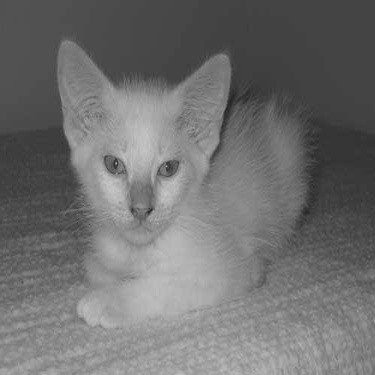cat: (52, 35, 312, 331)
